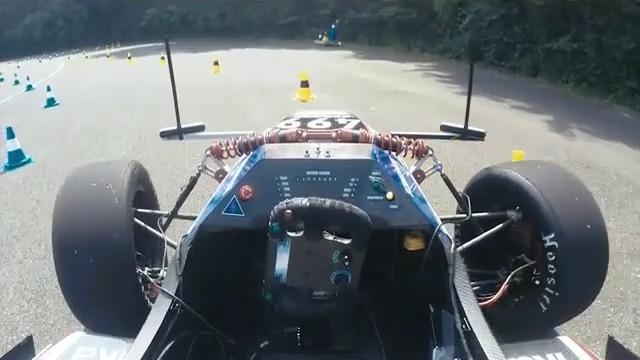blue_cone: (3, 127, 35, 172), (44, 85, 60, 109), (24, 76, 36, 92), (11, 73, 22, 86)
yellow_cone: (294, 72, 317, 103), (210, 55, 224, 74)
